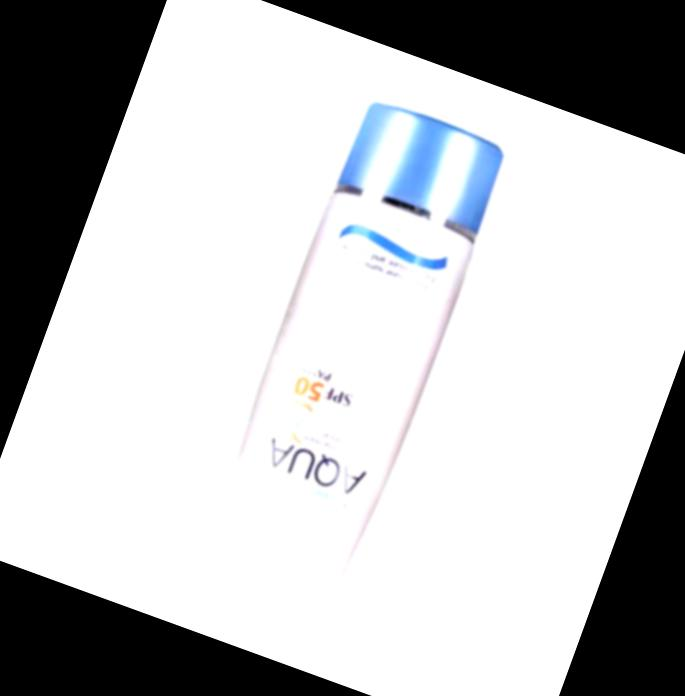cosmetic: (189, 94, 511, 625)
